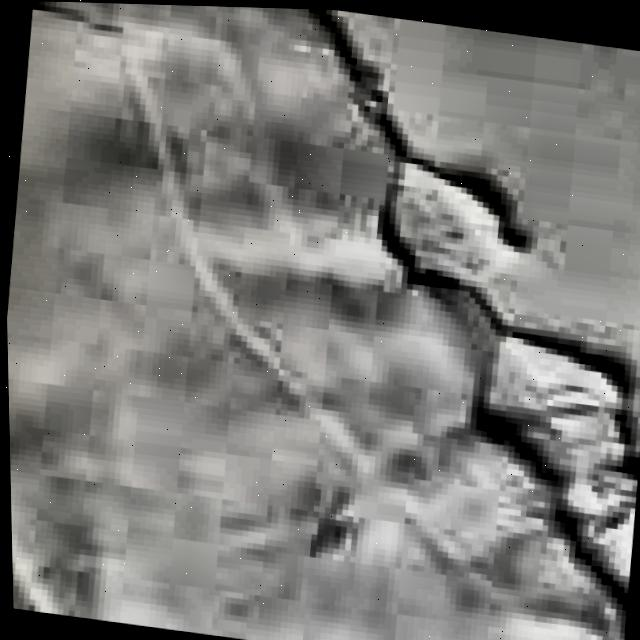paper: (5, 1, 636, 640)
